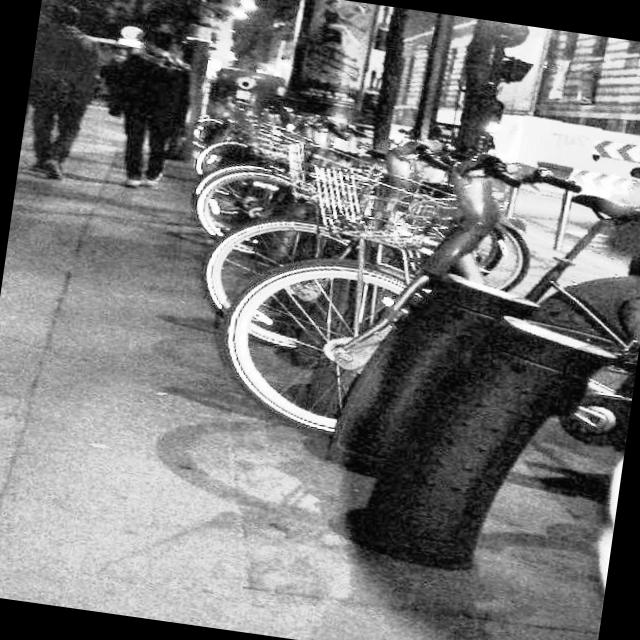Bicycle: (169, 231, 640, 464), (139, 139, 640, 313), (178, 98, 597, 229)
